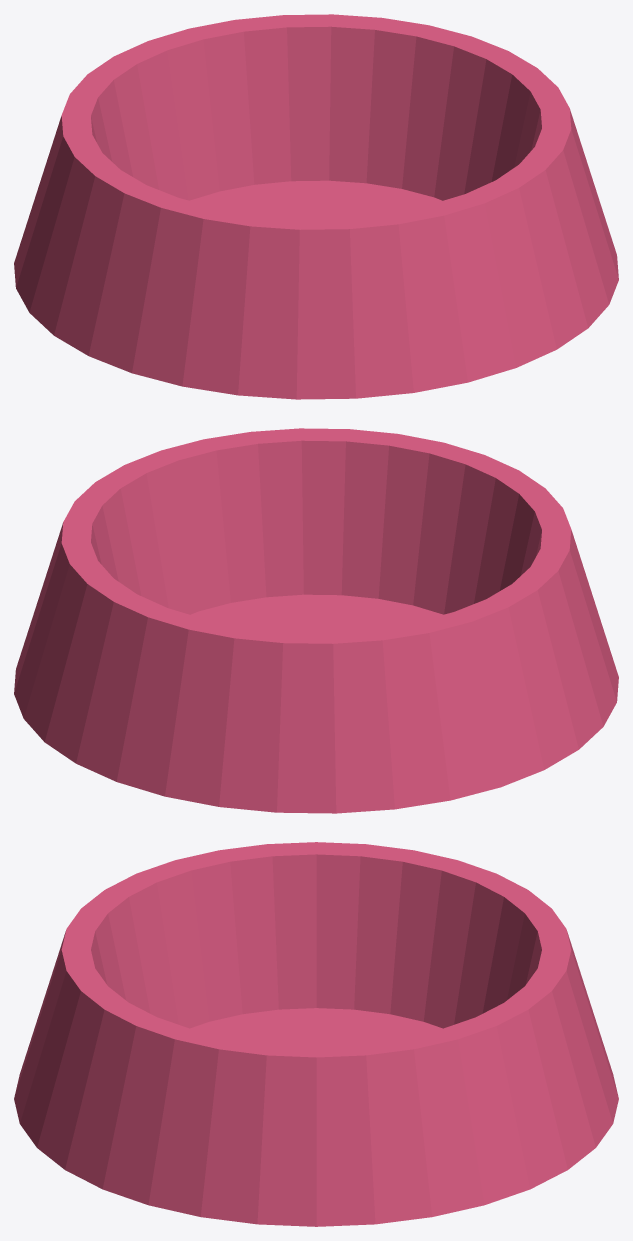
Rendered from fooddish.fbx.
3 views of the same model, one above another, from view 1: azimuth 30°, elevation 25°; view 2: azimuth 150°, elevation 25°; view 3: azimuth 270°, elevation 25° (orthographic).
Parts seen in each view (by area): view 1: Cylinder; view 2: Cylinder; view 3: Cylinder.
Boxes of the visible parts, box(x1,y1,x2,y2) form: Cylinder: box(14, 14, 618, 399); Cylinder: box(14, 428, 618, 813); Cylinder: box(14, 842, 618, 1226).
Bounding box in the file's own units: 229 × 62.21 × 229.
